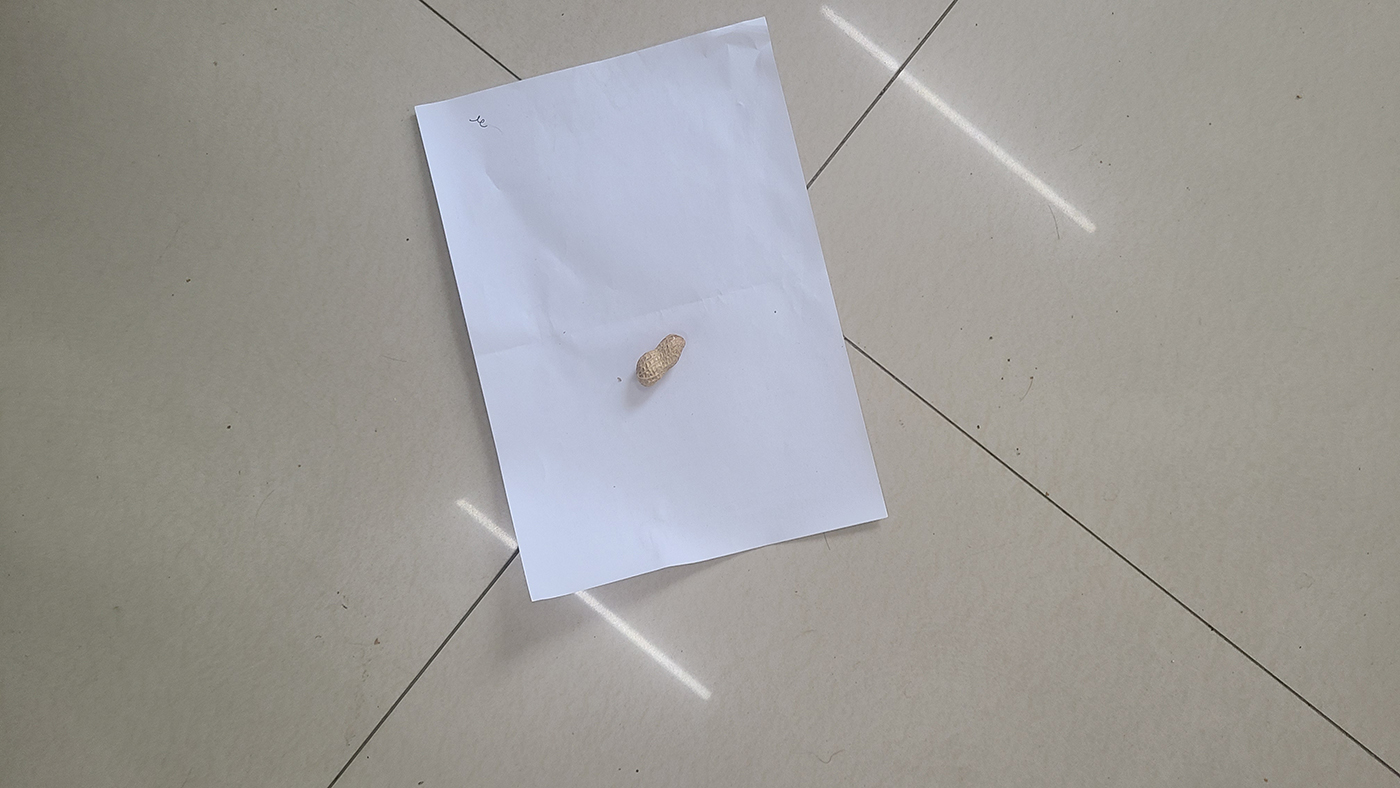h: (635, 333, 686, 387)
